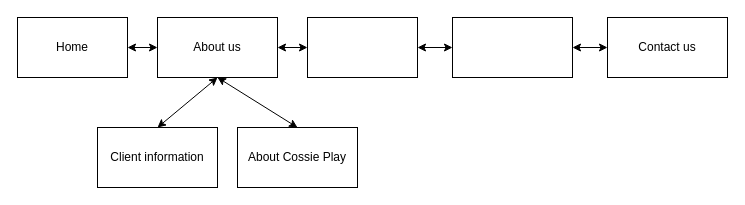
This 745x205 diagram has some shape labels left out. The shapes that lost their labels are listed below. From the top down, each one's centre as x and y in pixels, then its label:
At point 362,47: "Buy".
At point 512,47: "Register".
